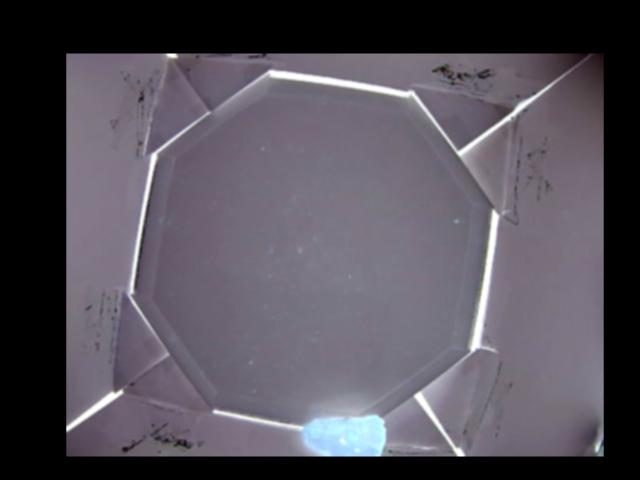Brisk: (301, 417, 386, 456)
